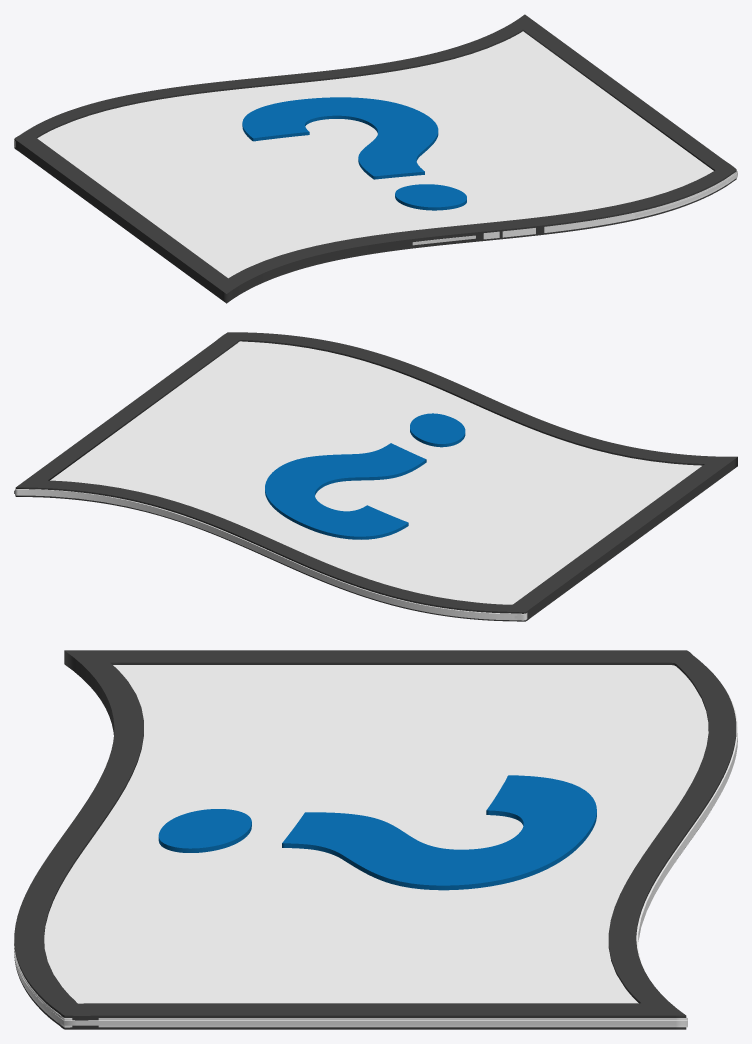
File: emoji_ufe82b.glb
The picture shows the model from 3 angles, top to bottom: view 1: azimuth 30°, elevation 25°; view 2: azimuth 150°, elevation 25°; view 3: azimuth 270°, elevation 25°; orthographic projection. The views are drawn at different scales.
Parts seen in each view (by area): view 1: emoji_ufe82b; view 2: emoji_ufe82b; view 3: emoji_ufe82b.
Boxes of the visible parts, x1=… form: emoji_ufe82b: x1=14, y1=14, x2=737, y2=303; emoji_ufe82b: x1=14, y1=332, x2=737, y2=621; emoji_ufe82b: x1=14, y1=650, x2=737, y2=1029.
Bounding box in the file's own units: 0.0339 × 0.0008 × 0.0283.
